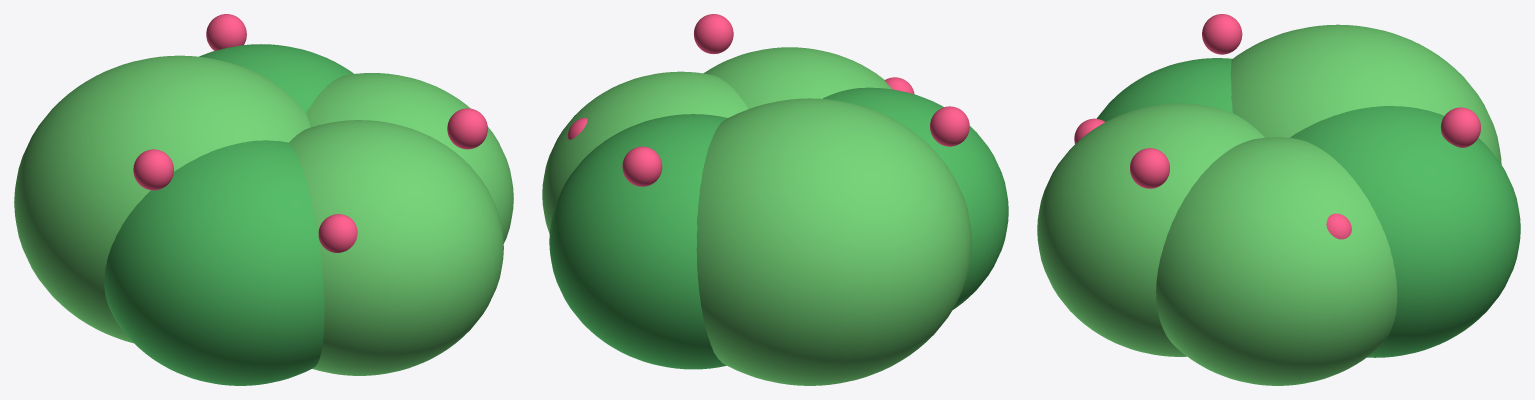
Rendered from bush.glb.
3 views of the same model, side by side, from view 1: azimuth 30°, elevation 25°; view 2: azimuth 150°, elevation 25°; view 3: azimuth 270°, elevation 25° (orthographic). The views are drawn at different scales.
Parts seen in each view (by area): view 1: B3, B4, B2, B0, B1, Berry5, Berry3, Berry4, Berry1; view 2: B2, B1, B0, B3, B4, Berry1, Berry3, Berry5; view 3: B0, B1, B4, B2, B3, Berry3, Berry5, Berry1, Berry0.
Boxes of the visible parts, x1,y1,x2,y2 form: B3: (104,140,324,385); B4: (289,120,503,375); B2: (14,55,310,343); B0: (306,73,513,243); B1: (199,44,353,112); Berry5: (447,108,487,149); Berry3: (133,149,173,190); Berry4: (318,214,357,252); Berry1: (206,14,246,50); B2: (696,98,971,385); B1: (549,114,727,369); B0: (542,71,747,233); B3: (822,87,1008,309); B4: (703,47,892,109); Berry1: (622,146,662,186); Berry3: (930,106,969,146); Berry5: (694,14,733,54); B0: (1156,137,1397,385); B1: (1290,106,1520,357); B4: (1037,103,1264,356); B2: (1230,24,1501,164); B3: (1096,58,1232,121); Berry3: (1202,14,1242,54); Berry5: (1130,148,1169,188); Berry1: (1440,107,1480,147); Berry0: (1326,213,1351,239).
Bounding box in the file's own units: 1.43 × 0.8281 × 1.42.
